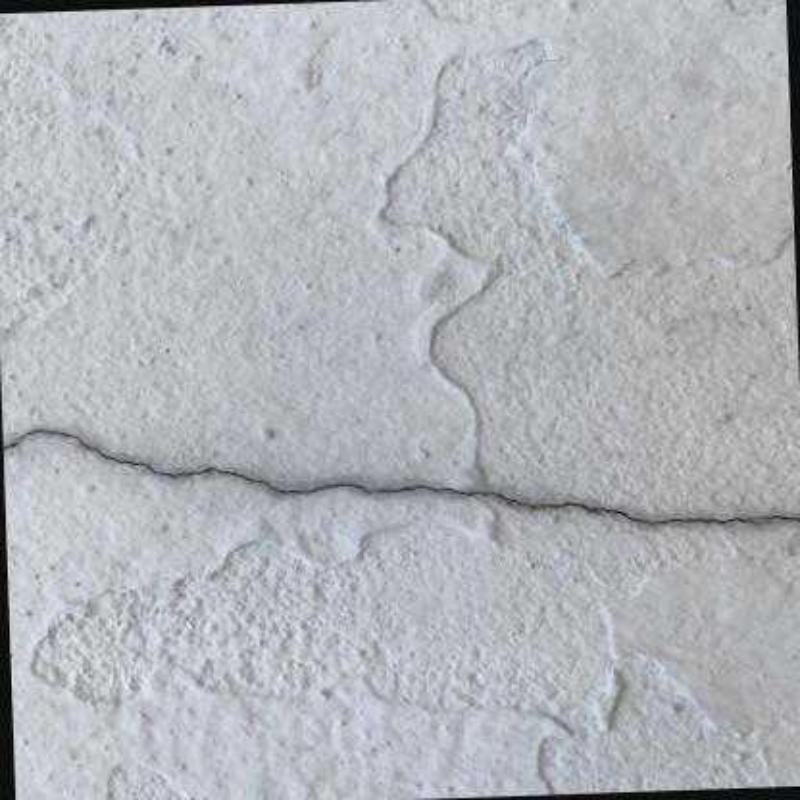pothole: (3, 430, 768, 525), (752, 515, 800, 521)
